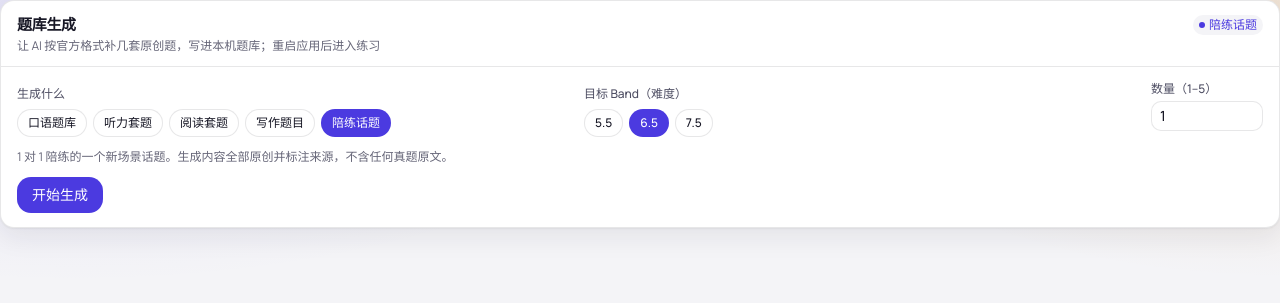
题库生成卡（§17.4） › 任务 failed 时显示后端 error 而不是停在转圈
The image size is (1280, 303).
Step 1. Click the button "开始生成" → (60, 195), box [17,177,103,213]
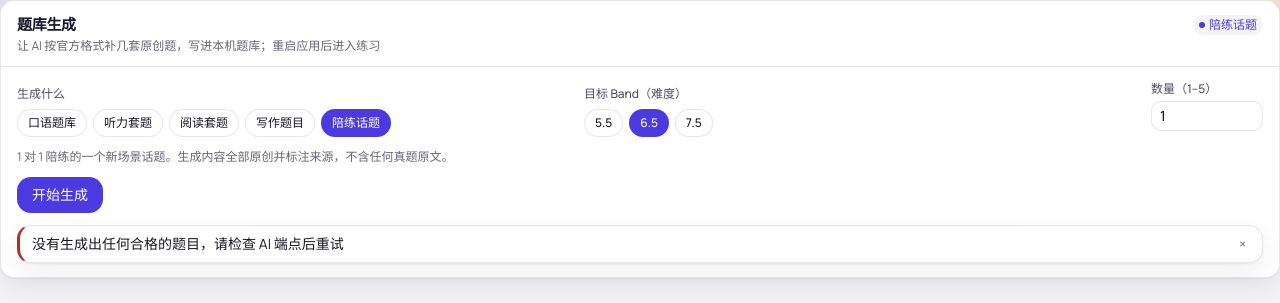
Check: the text "没有生成出任何合格的题目，请检查 AI 端点后重试" is shown, box [32,234,344,253]
